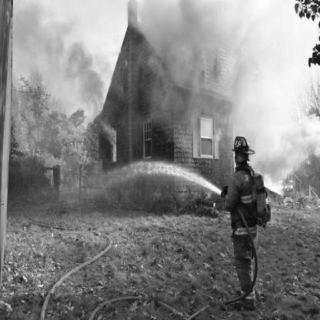Fire: (96, 115, 124, 167)
